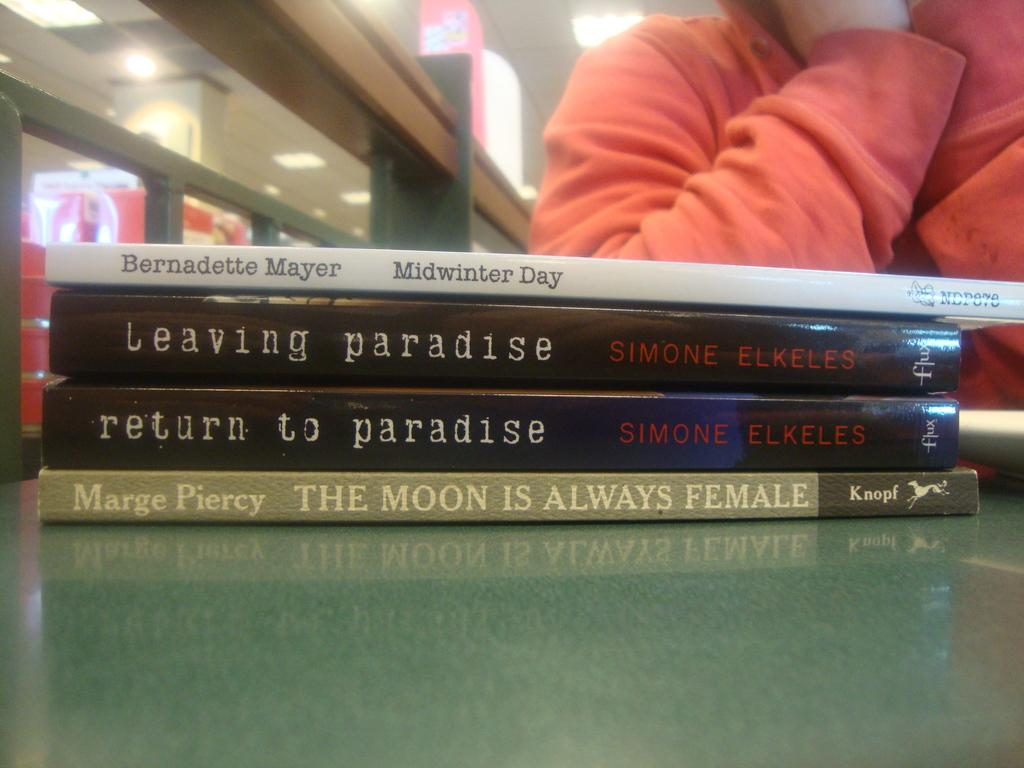Book: (48, 289, 963, 393), (39, 378, 962, 472), (44, 241, 1023, 326), (36, 466, 980, 525)
